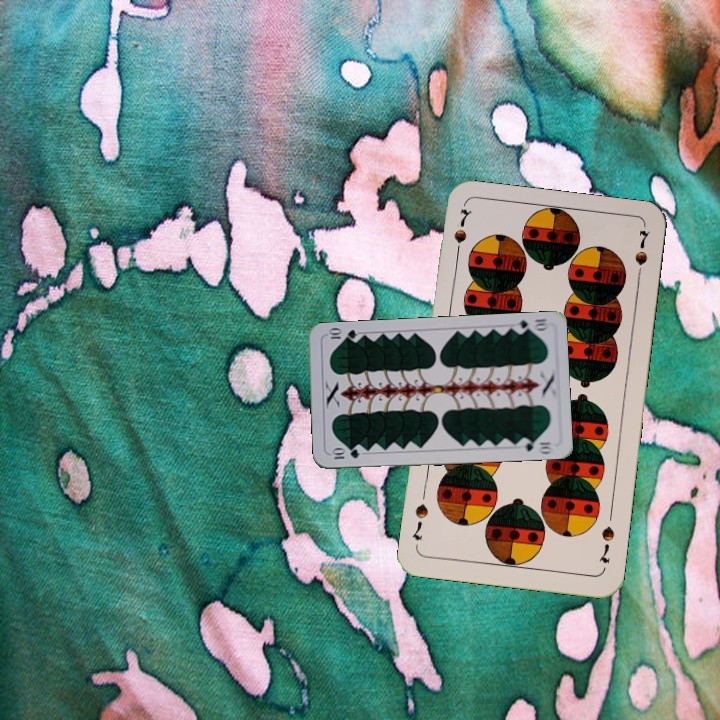G10: (510, 314, 550, 336), (327, 445, 362, 462)
S7: (450, 205, 472, 263), (595, 522, 617, 566)
